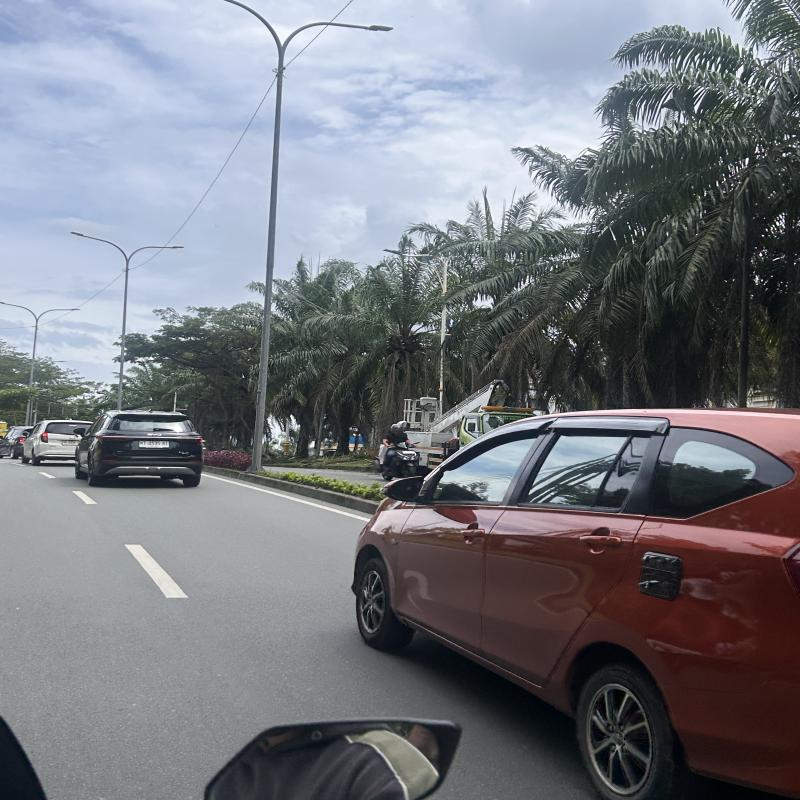license plate on a car: (138, 441, 170, 448), (61, 440, 80, 445)
